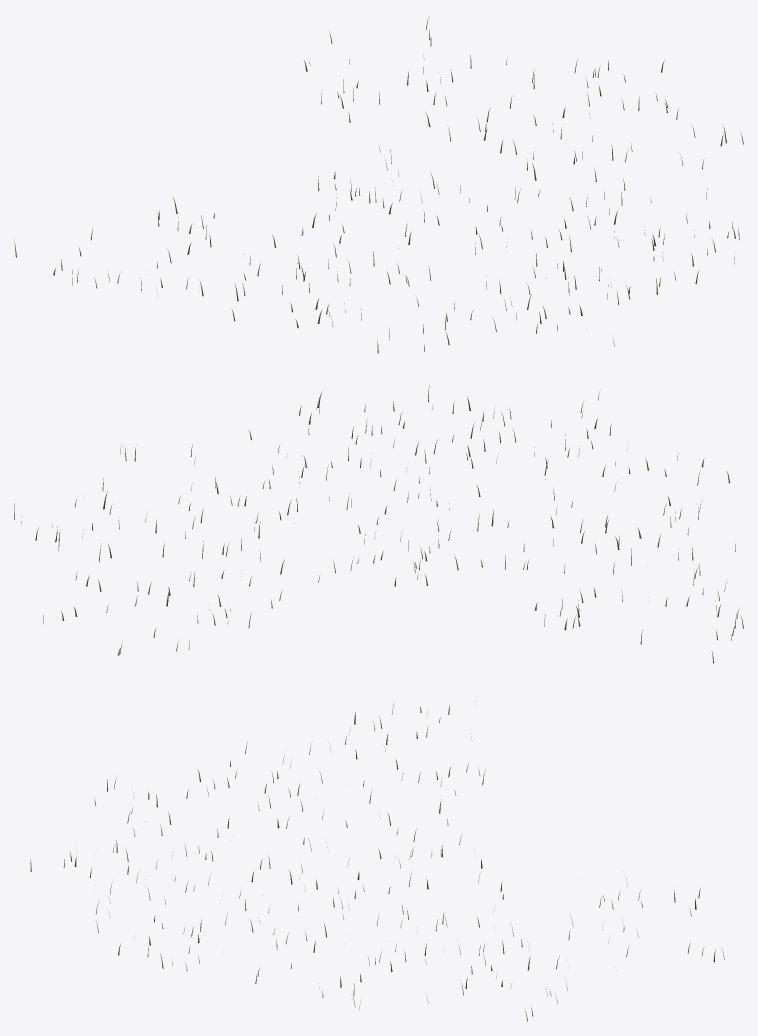
The picture shows the model from 3 angles, top to bottom: view 1: azimuth 30°, elevation 25°; view 2: azimuth 150°, elevation 25°; view 3: azimuth 270°, elevation 25°; orthographic projection. The views are drawn at different scales.
Parts seen in each view (by area): view 1: GrassPatch; view 2: GrassPatch; view 3: GrassPatch.
Boxes of the visible parts, bbox=[...] form: GrassPatch: bbox=[14, 16, 743, 353]; GrassPatch: bbox=[14, 385, 743, 663]; GrassPatch: bbox=[30, 703, 724, 1021].
Bounding box in the file's own units: 18.88 × 0.4915 × 18.54.
